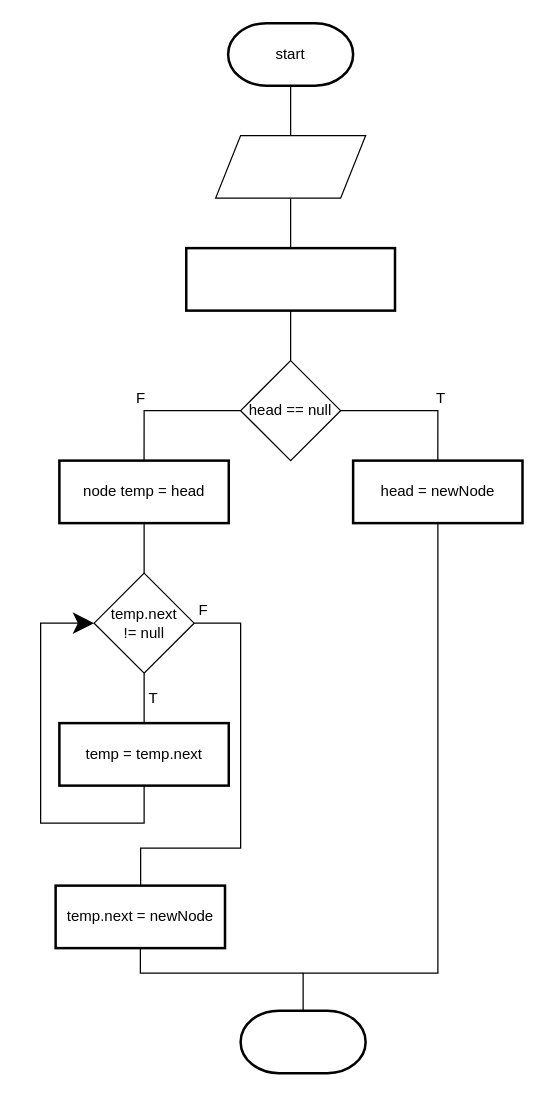
This 545x1095 diagram has some shape labels left out. The box of each missing label's shape, as (x1, y1, x2, y2) in pixels:
end: (239, 1009, 366, 1074)
newElement Є N: (214, 134, 366, 198)
node newNode(newElement) newNode.next = null: (184, 246, 396, 311)
